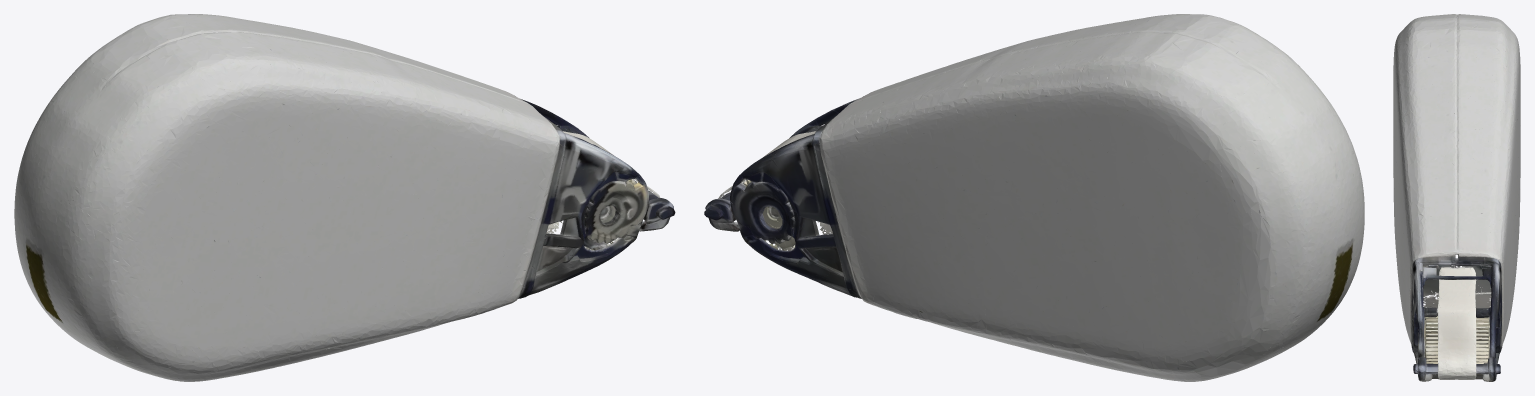
File: refined.glb
The picture shows the model from 3 angles, left to right: view 1: azimuth 30°, elevation 25°; view 2: azimuth 150°, elevation 25°; view 3: azimuth 270°, elevation 25°; orthographic projection. The views are drawn at different scales.
Visible parts, largest first — view 1: world; view 2: world; view 3: world.
Boxes of the visible parts, left/top/right/bottom form: world: left=14, top=14, right=675, bottom=381; world: left=704, top=14, right=1364, bottom=381; world: left=1393, top=14, right=1520, bottom=381.
Size of the model in its own units: 0.9987 by 0.5117 by 0.2523.
1 material, 1 textured.
